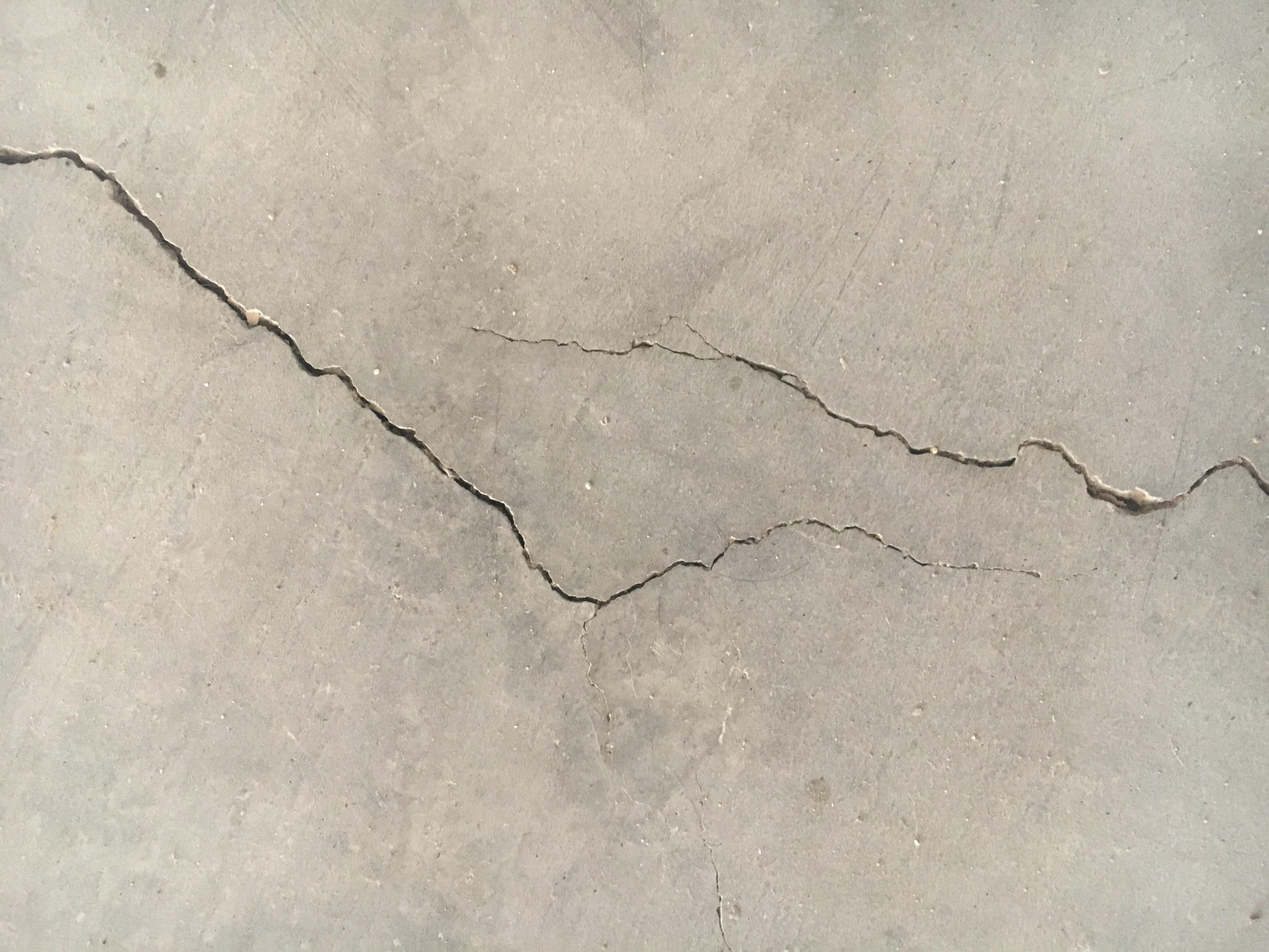Structural-Crack: (1, 124, 1269, 626)
